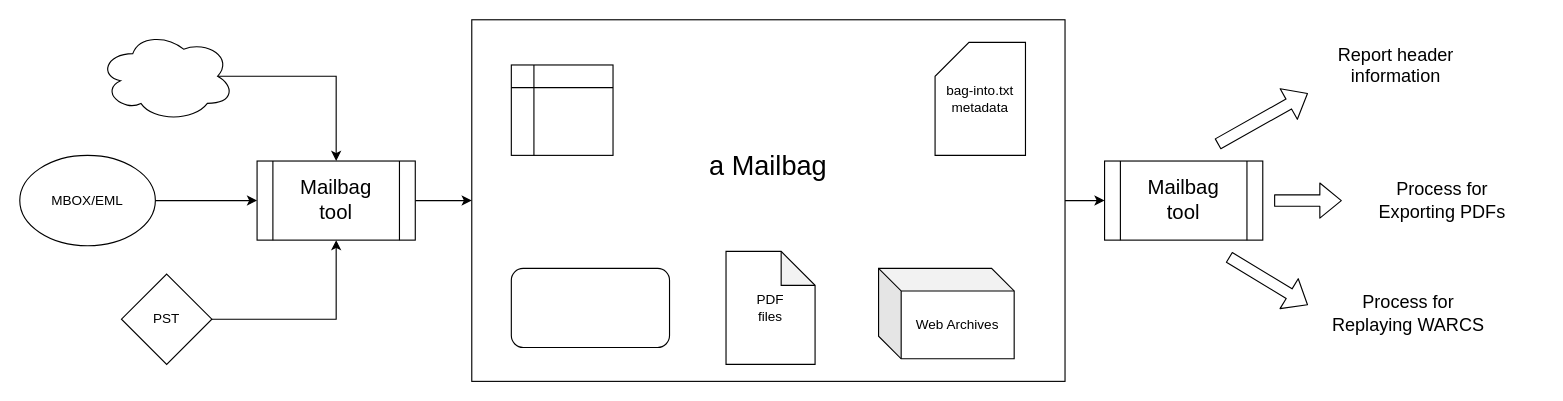
This 1563x401 diagram has some shape labels left out. The shapes that lost their labels are listed below. From the top down, each one's centre as x and y in pixels, then its label:
point (166, 75): IMAP
point (561, 109): CSV/ SQLite
point (590, 307): MBOX/EML email data
